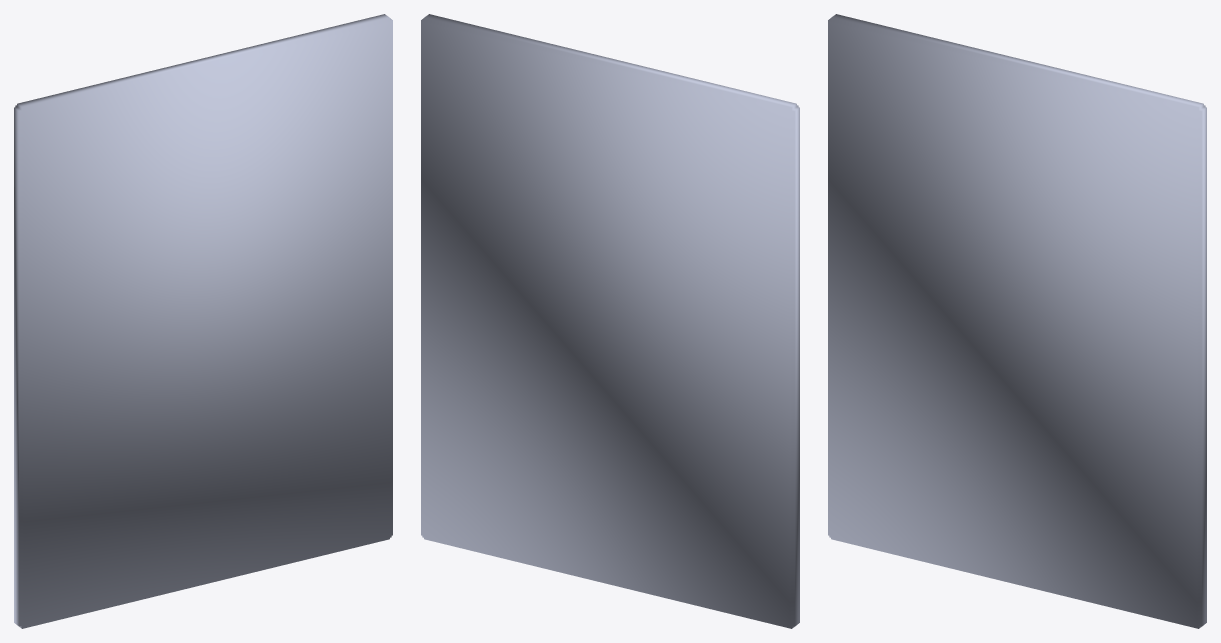
File: glass-slab.glb
3 renders of one model, left to right at view 1: azimuth 30°, elevation 25°; view 2: azimuth 150°, elevation 25°; view 3: azimuth 330°, elevation 25°, orthographic.
Parts seen in each view (by area): view 1: GlassSlab; view 2: GlassSlab; view 3: GlassSlab.
Part boxes in pixels (x1,y1,x2,y2): GlassSlab: [14, 14, 392, 628]; GlassSlab: [421, 14, 799, 628]; GlassSlab: [828, 14, 1206, 628].
Size of the model in its own units: 1.5 by 2 by 0.06.
